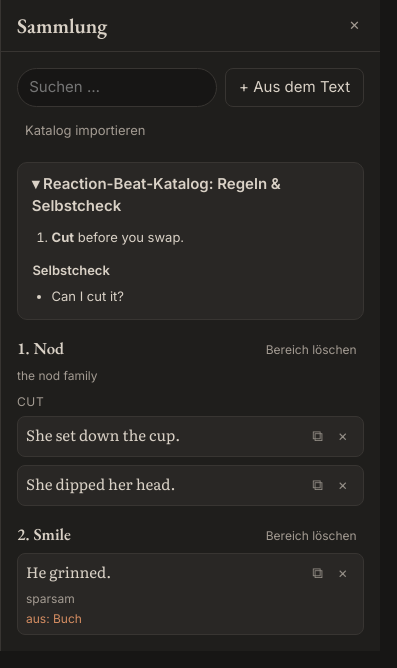
the search narrows the list; the rules can be folded away
Type "grin" into the search field named "Sammlung durchsuchen" at point(117, 88), box x1=17 y1=68 x2=217 y2=107
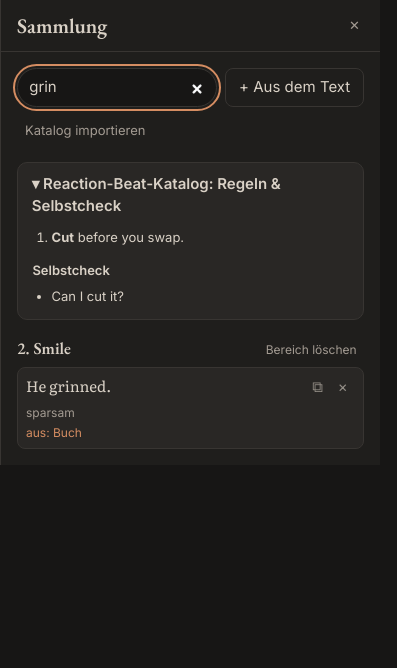
Expected: the button "He grinned." is shown, x1=26 y1=374 x2=300 y2=399
Expected: the button "She set down the cup." is gone
Click the button "▾ Reaction-Beat-Katalog: Regeln & Selbstcheck" at point(190, 195), box x1=18 y1=163 x2=363 y2=227
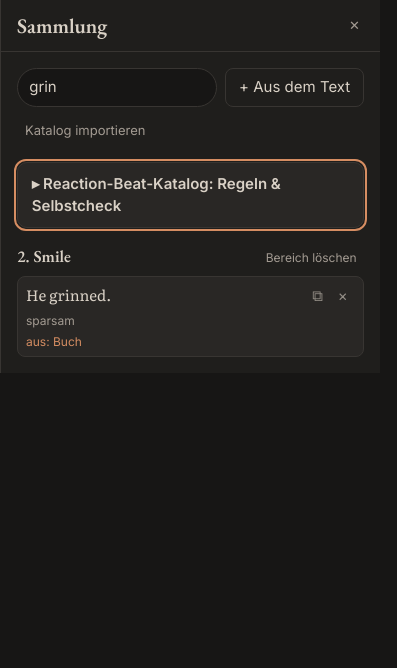
Expected: the list item "Can I cut it?" is gone
